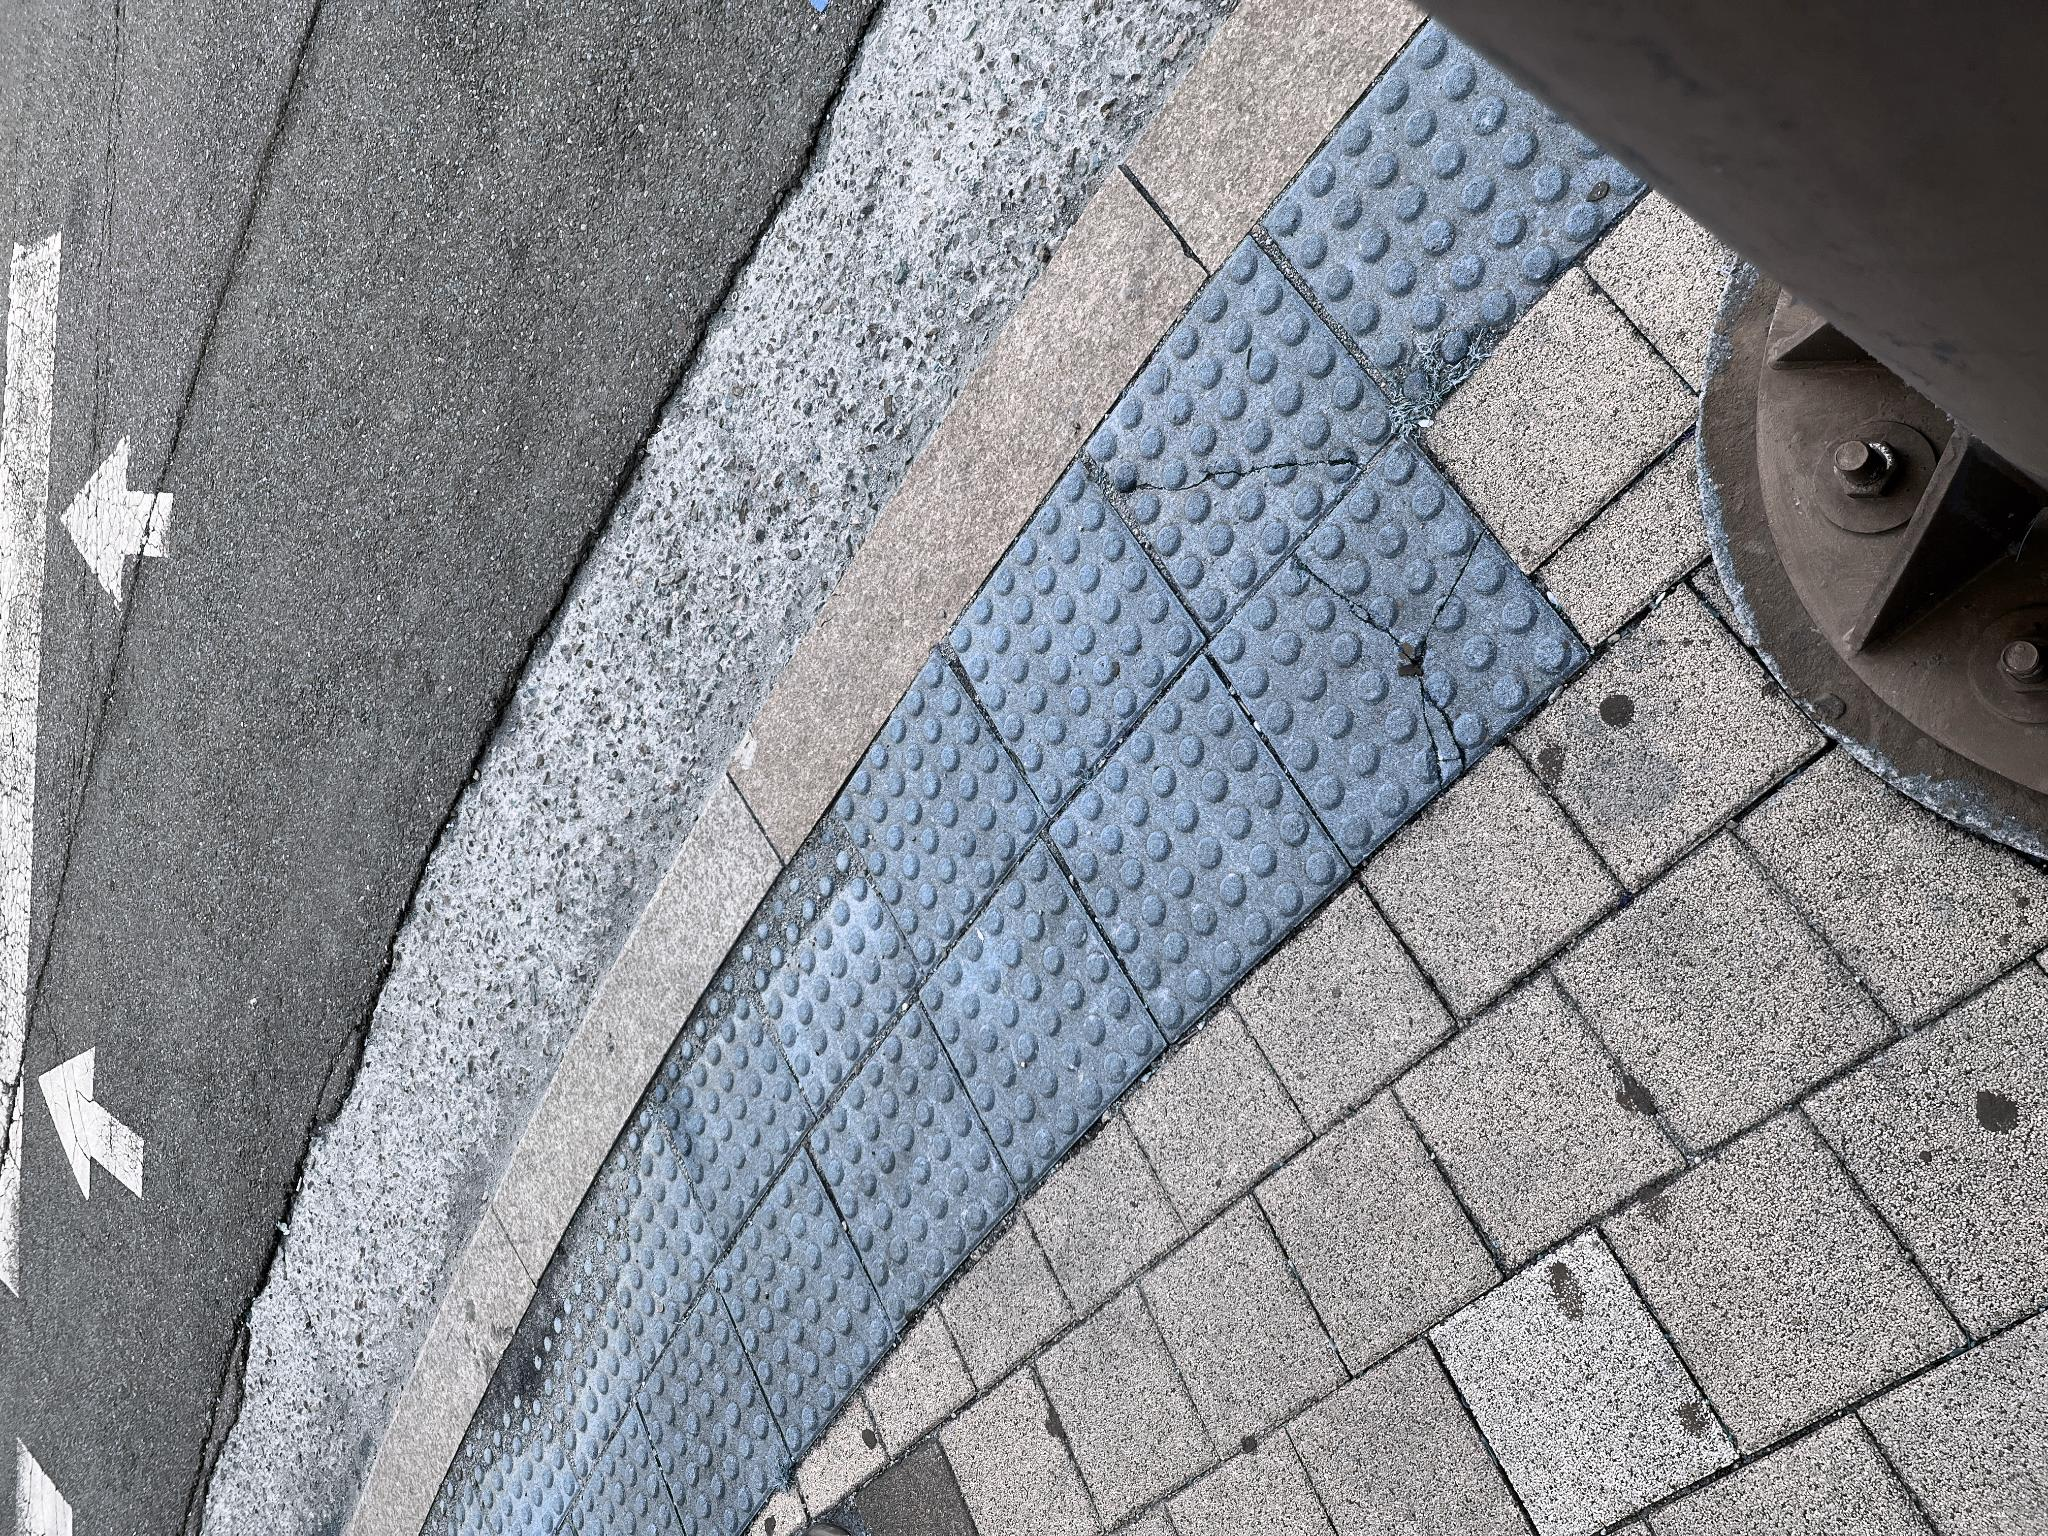Stop block broken: (674, 1210, 1098, 1536), (905, 1086, 1298, 1400)
Stop block normal: (495, 1049, 880, 1344), (726, 947, 1071, 1200), (345, 918, 692, 1160), (206, 807, 532, 1015), (566, 836, 884, 1044)
